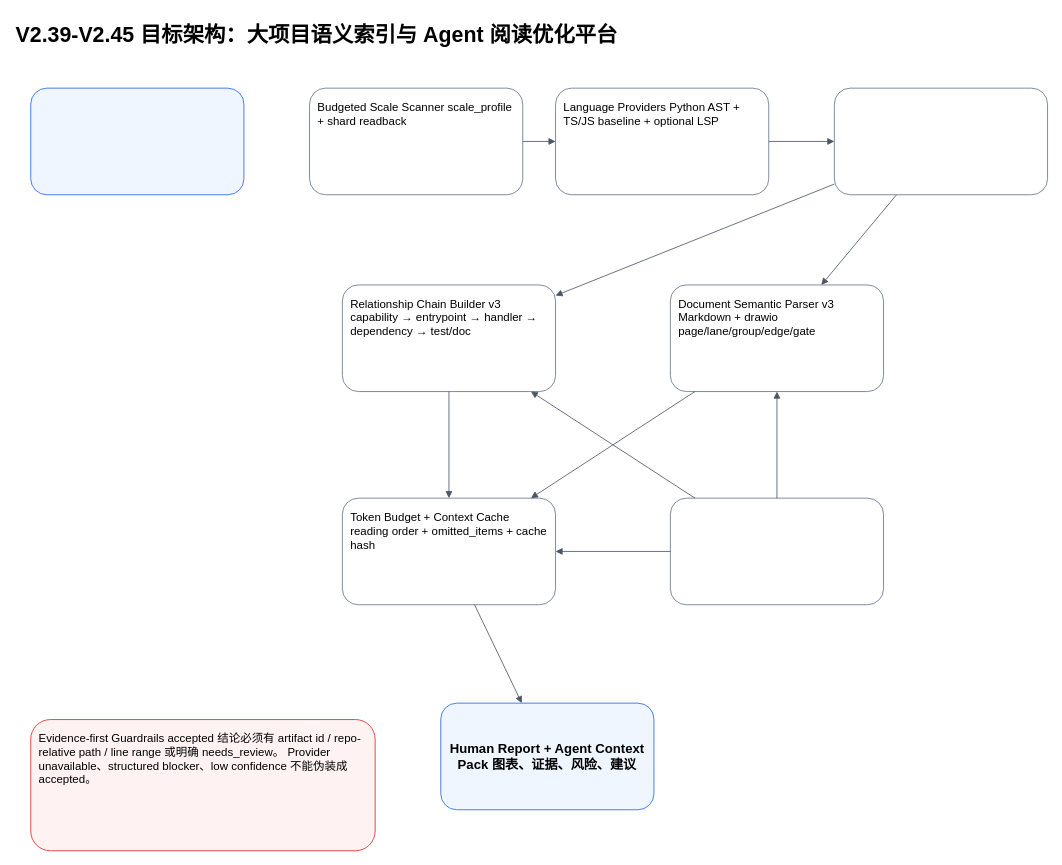
Some shapes in this 1062 by 865 pixel diagram are drawn without their labels. Here are the shapes that lost their labels. From the top down, the centre of each, then its label:
At (x=137, y=141): "Repo / Docs / Profile Inputs".
At (x=941, y=141): "Workflow Runtime Candidates workflow / runtime / agent / CLI / TUI / console".
At (x=777, y=551): "Profile / Taxonomy / Regression project family + no-hardcode audit".
